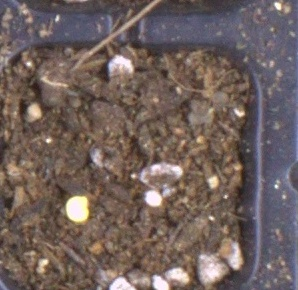chilli seed: (65, 195, 89, 223)
